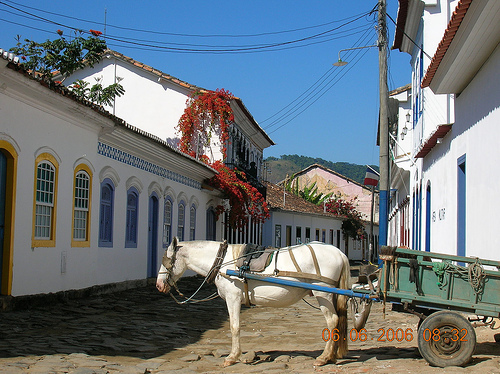horse: (156, 236, 365, 368)
